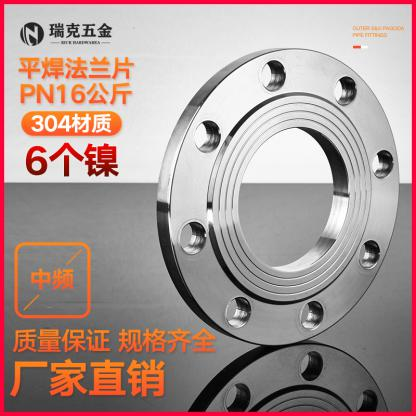FOD: (153, 41, 403, 348)
